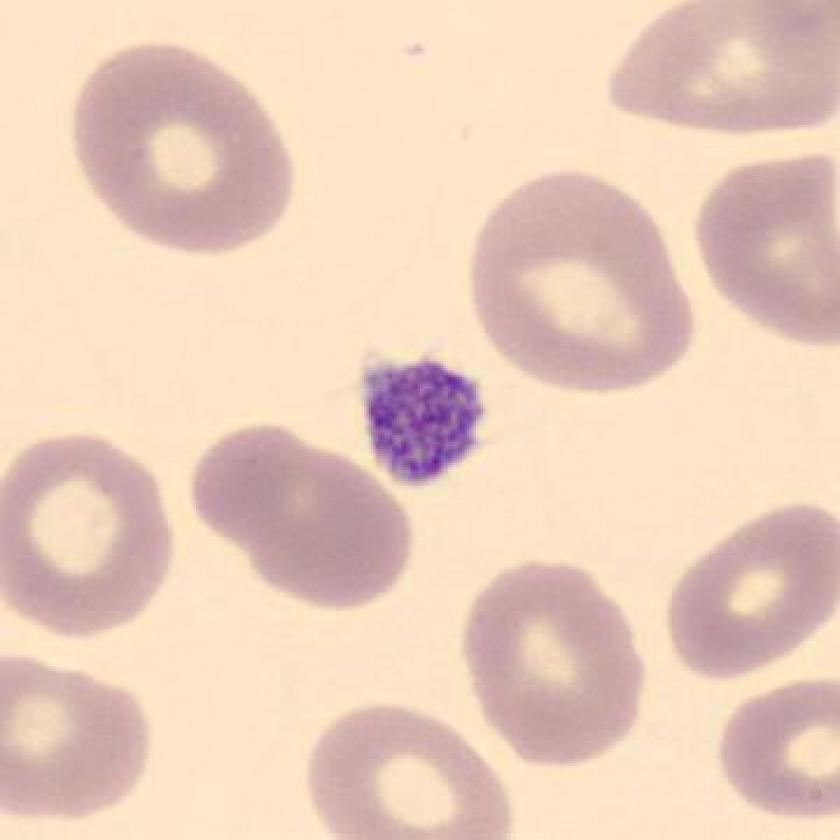platelets: (353, 355, 496, 494)
